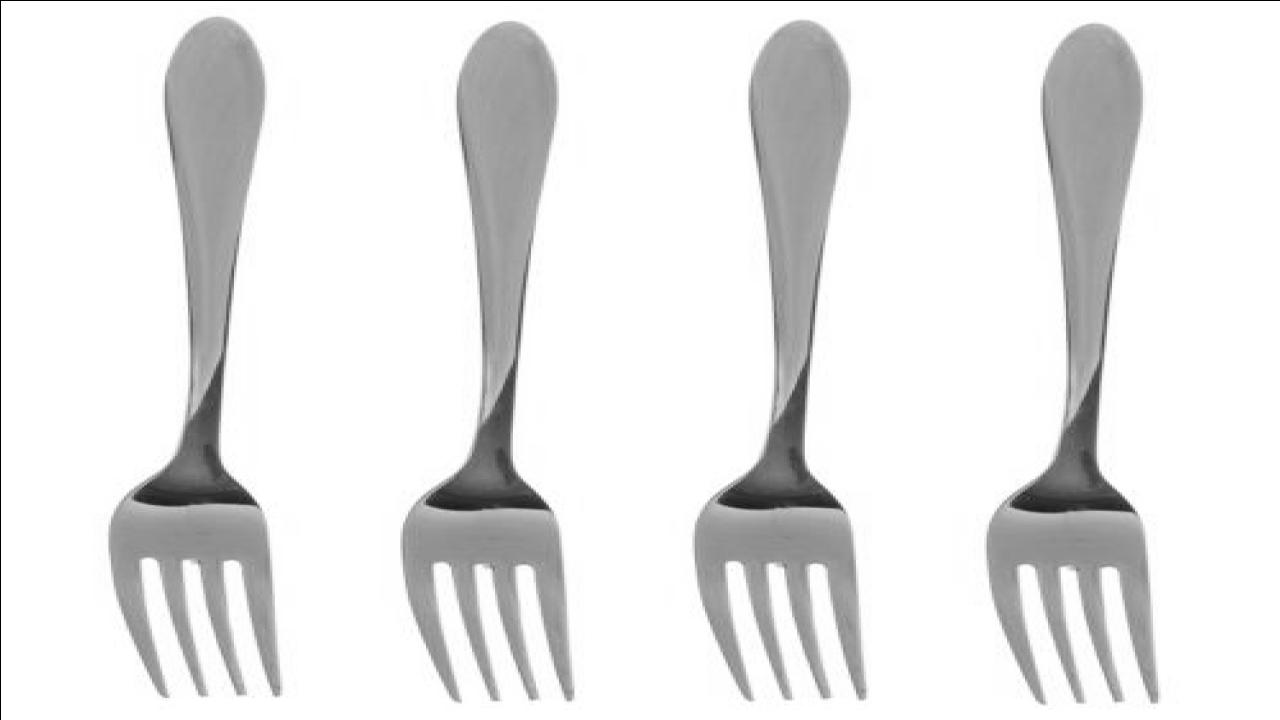fork: (400, 22, 578, 704), (986, 23, 1162, 706), (108, 18, 284, 700), (694, 21, 870, 702)
